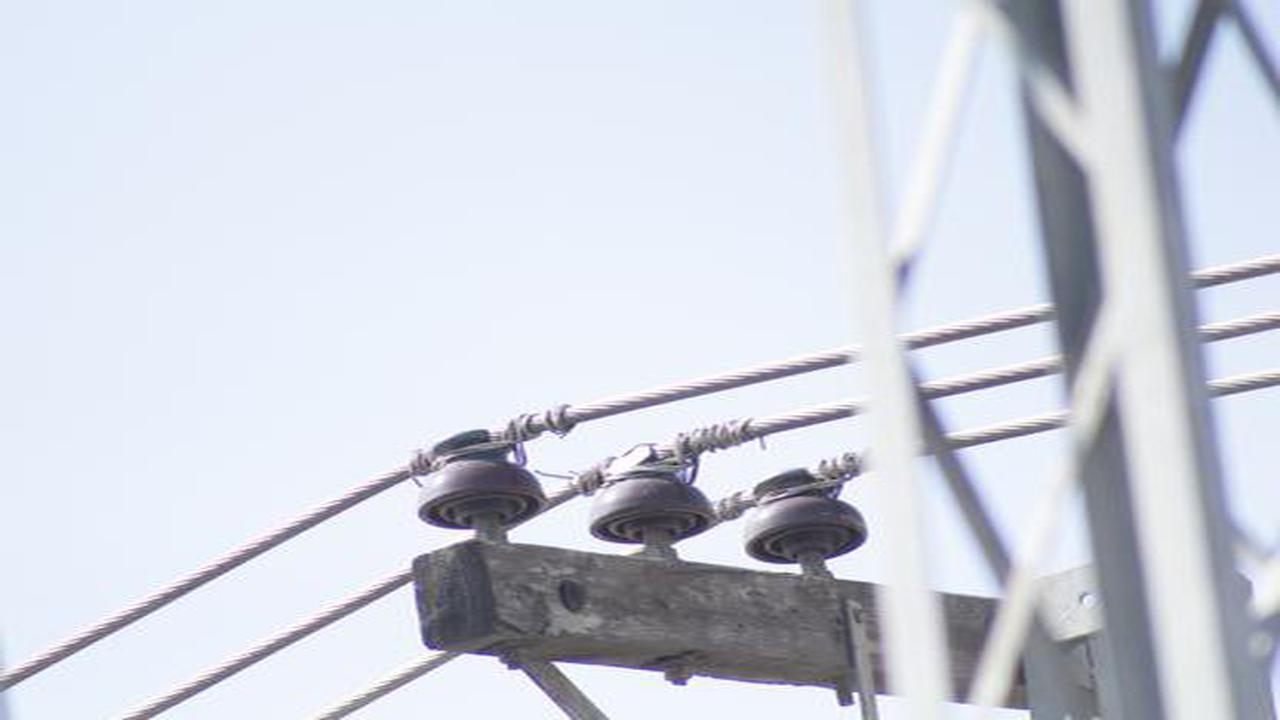insulator_pin: (411, 429, 547, 532), (740, 465, 872, 565), (584, 449, 719, 542)
